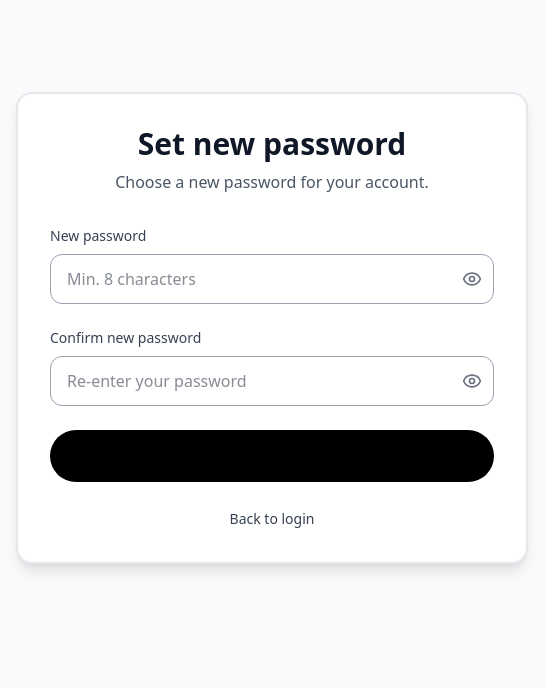
Test: NewPasswordPage › shows validation error for password too short
In the password field labelled "New password": (272, 279) [50,254,494,304], type "Ab1!"
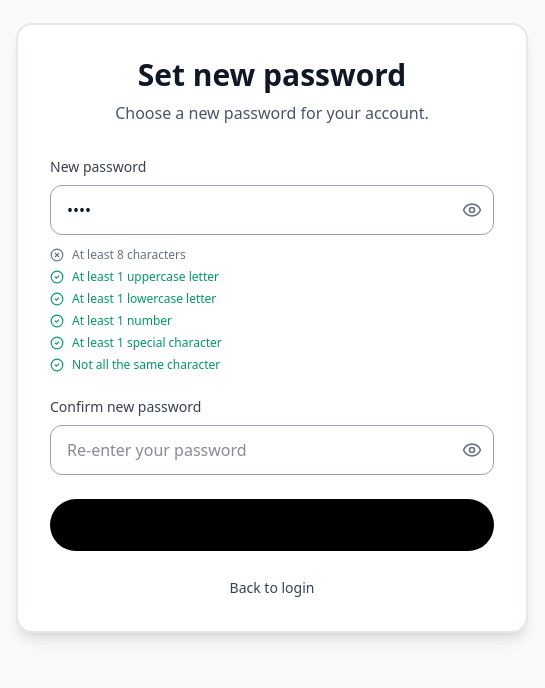
In the password field labelled "Confirm new password": (272, 450) [50,425,494,475], type "Ab1!"
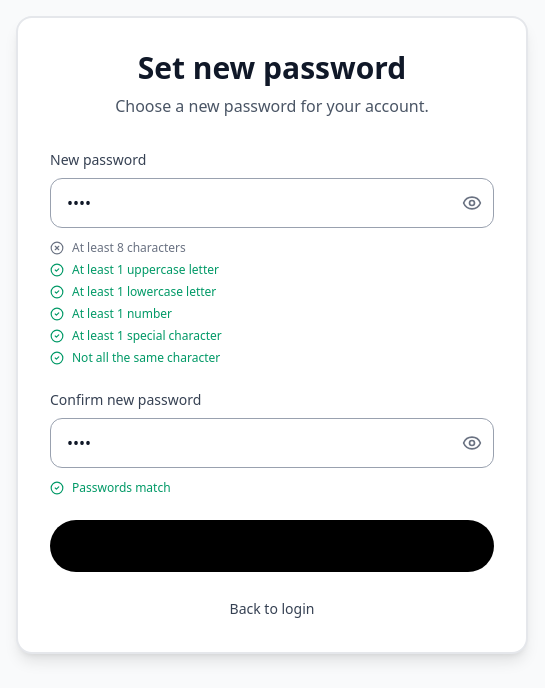
Click the button "Continue": (272, 546) [50,520,494,572]
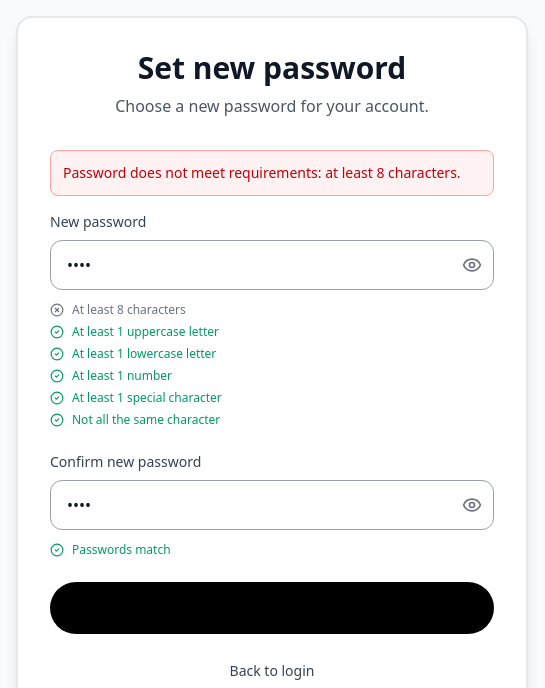
Result: the text "Password does not meet requirements: at least 8 characters." is shown at [50,150,494,196]
